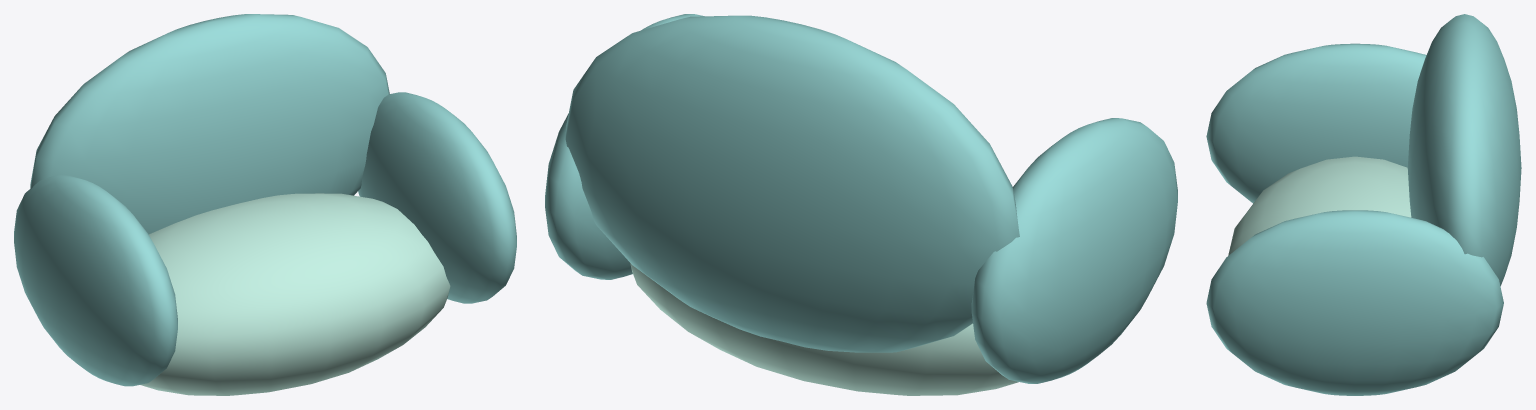
The model's file is sofa.glb.
3 views of the same model, side by side, from view 1: azimuth 30°, elevation 25°; view 2: azimuth 150°, elevation 25°; view 3: azimuth 270°, elevation 25° (orthographic). The views are drawn at different scales.
Visible parts, largest first — view 1: back, seat, arm-0.45, arm0.45; view 2: back, arm-0.45, seat, arm0.45; view 3: arm0.45, arm-0.45, back, seat.
Part boxes in pixels (x1,y1,x2,y2): back: (30, 14, 389, 234); seat: (140, 193, 450, 395); arm-0.45: (14, 175, 177, 386); arm0.45: (358, 92, 516, 303); back: (565, 15, 1019, 352); arm-0.45: (971, 118, 1177, 383); seat: (630, 263, 1018, 395); arm0.45: (545, 14, 704, 279); arm0.45: (1206, 210, 1503, 395); arm-0.45: (1206, 43, 1426, 203); back: (1407, 14, 1521, 286); seat: (1228, 156, 1411, 255).
Bounding box in the file's own units: 1.1 × 0.79 × 0.72.
